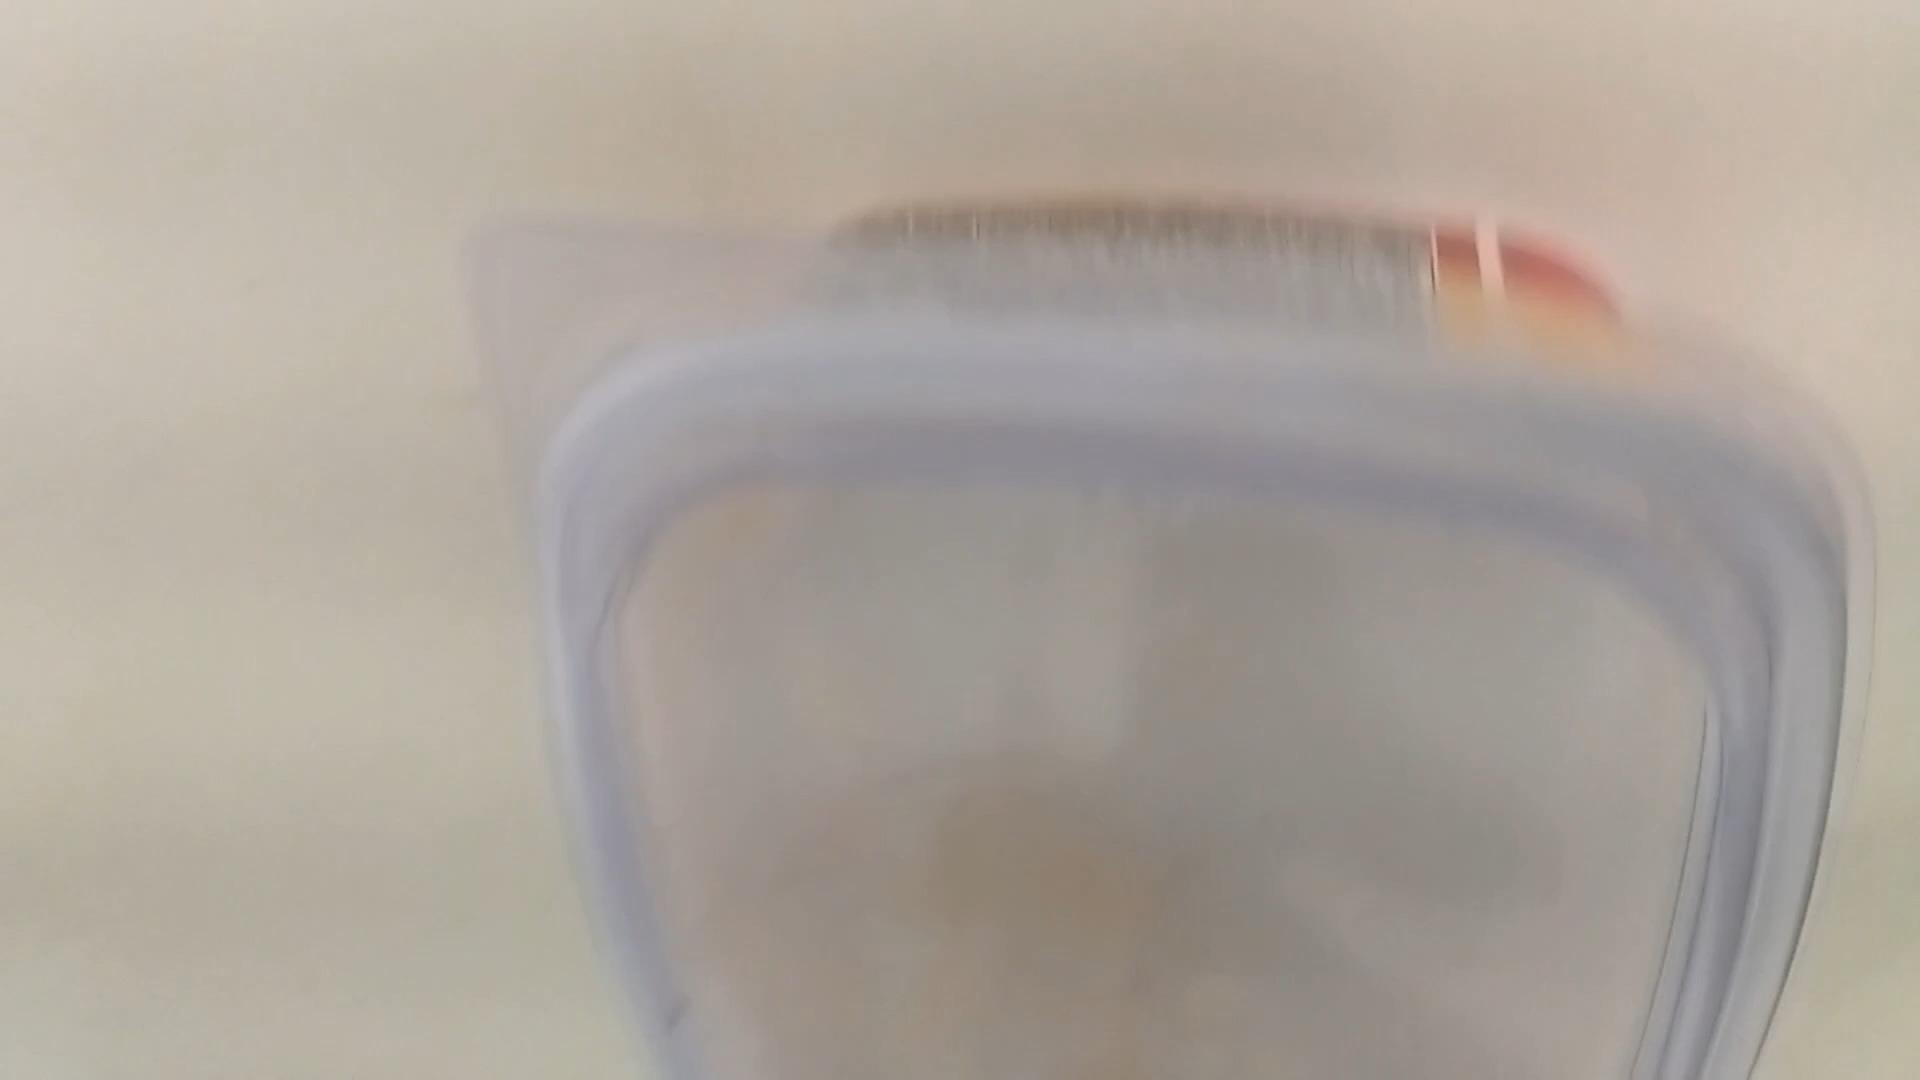butter: (481, 235, 1857, 1079)
